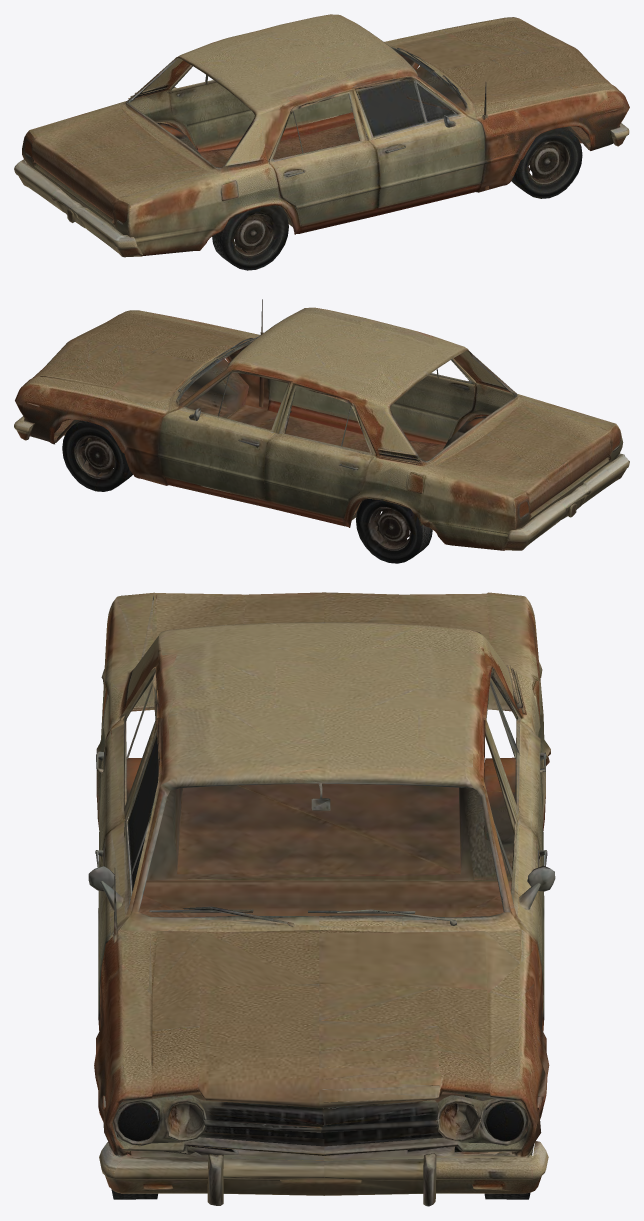
The model's file is office-car-wreck.glb.
3 views of the same model, one above another, from view 1: azimuth 30°, elevation 25°; view 2: azimuth 150°, elevation 25°; view 3: azimuth 270°, elevation 25° (orthographic). The views are drawn at different scales.
Parts seen in each view (by area): view 1: car-wreck; view 2: car-wreck; view 3: car-wreck.
Boxes of the visible parts, x1=… form: car-wreck: x1=14, y1=14, x2=629, y2=270; car-wreck: x1=14, y1=299, x2=629, y2=563; car-wreck: x1=88, y1=592, x2=555, y2=1206.
Bounding box in the file's own units: 4.6 × 1.31 × 1.78.
1 material, 1 textured.
